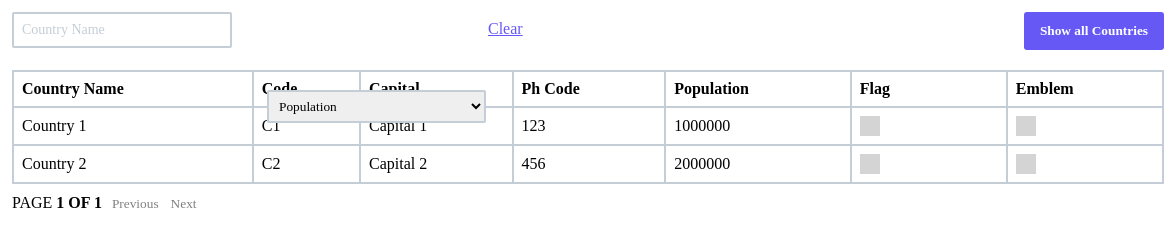
Test: Should show filtered values when searched for countries
Type "Country 1" into the field with test id "global-input" showing "Country Name" at coordinates (122, 30), box [12,12,232,48]
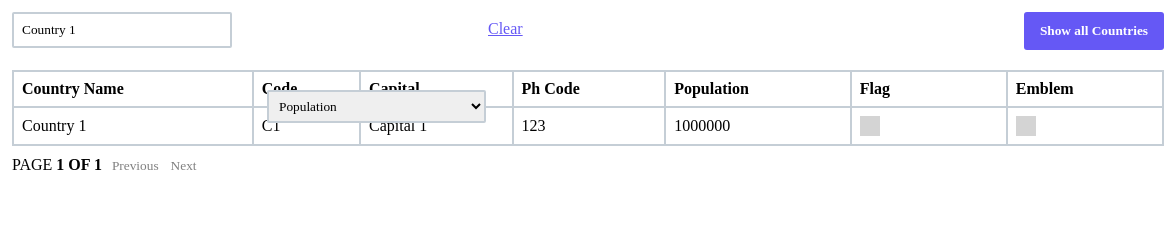
Expected: the text "Country 1" is shown, [13,107,253,145]
Expected: the text "Country 2" is gone
